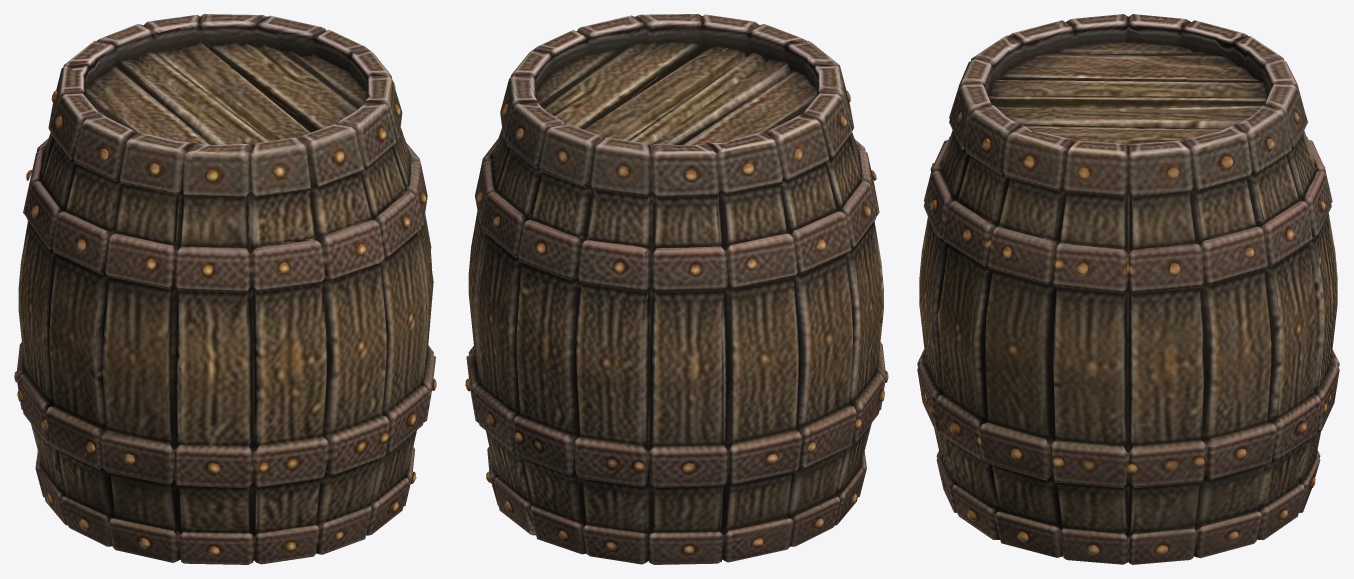
File: beczka.glb
3 views of the same model, side by side, from view 1: azimuth 30°, elevation 25°; view 2: azimuth 150°, elevation 25°; view 3: azimuth 270°, elevation 25° (orthographic).
Visible parts, largest first — view 1: Mesh_0; view 2: Mesh_0; view 3: Mesh_0.
Part boxes in pixels (x1=…): Mesh_0: x1=14, y1=14, x2=436, y2=564; Mesh_0: x1=465, y1=14, x2=888, y2=564; Mesh_0: x1=917, y1=14, x2=1339, y2=564.
Bounding box in the file's own units: 0.8999 × 0.9512 × 0.8979.
Materials: 1 (1 with a texture image).
